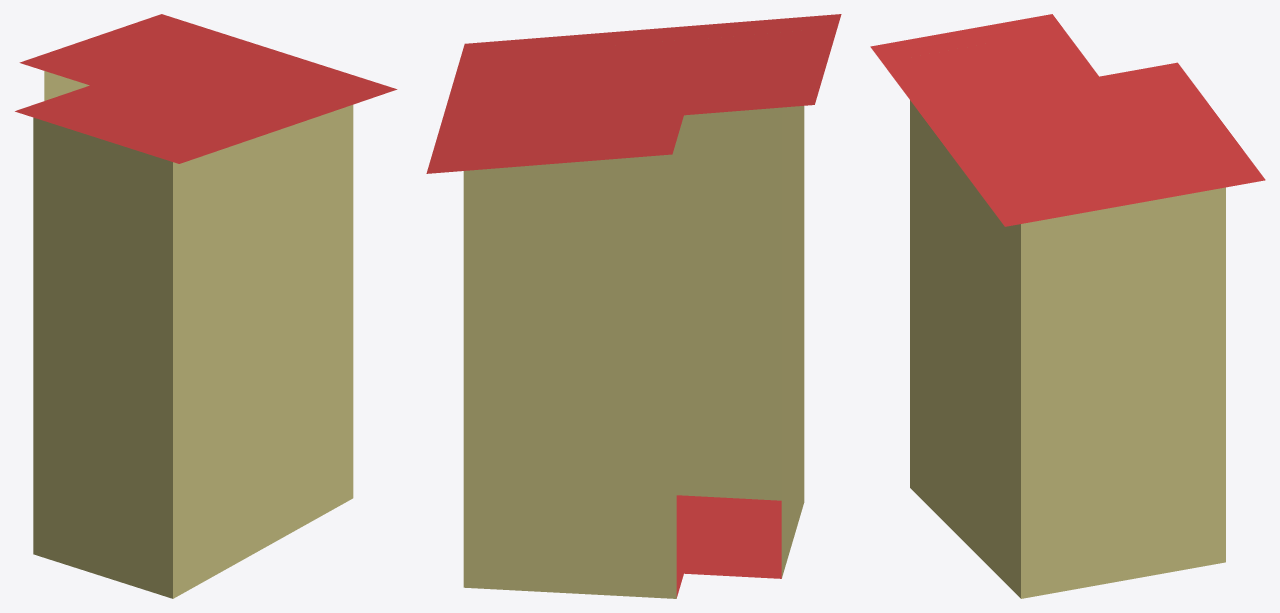
3 views of the same model, side by side, from view 1: azimuth 30°, elevation 25°; view 2: azimuth 150°, elevation 25°; view 3: azimuth 270°, elevation 25° (orthographic). The views are drawn at different scales.
Size of the model in its own units: 6.52 by 6.51 by 7.88.
